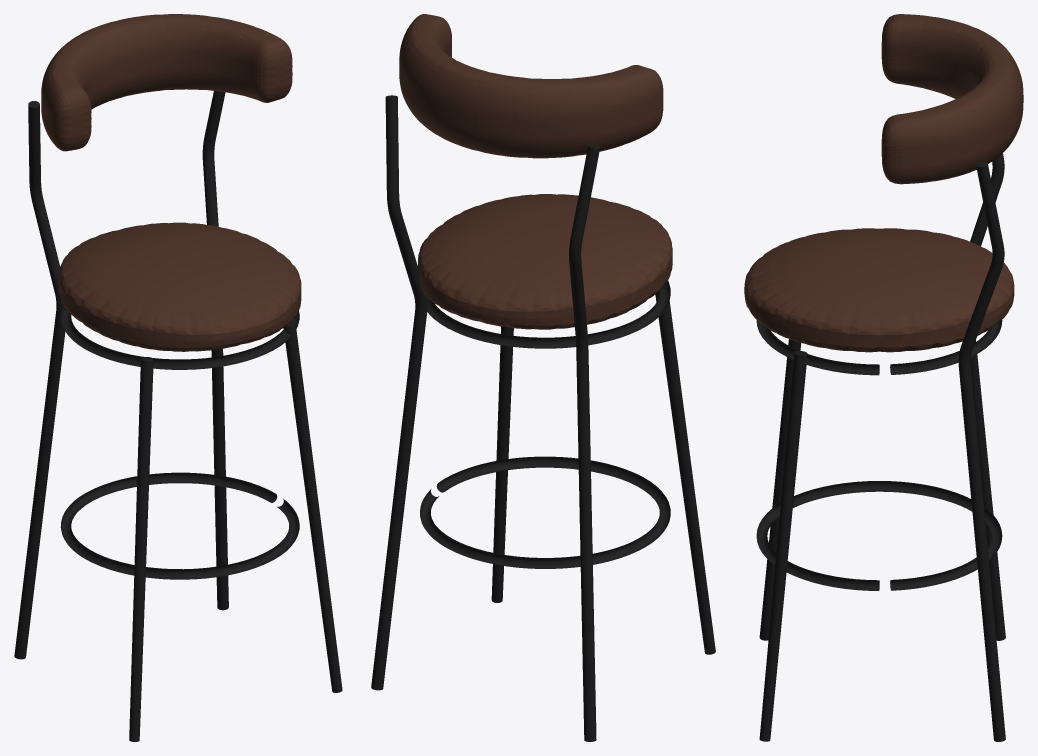
The model's file is pier.glb.
3 views of the same model, side by side, from view 1: azimuth 30°, elevation 25°; view 2: azimuth 150°, elevation 25°; view 3: azimuth 270°, elevation 25° (orthographic). The views are drawn at different scales.
Parts seen in each view (by area): view 1: seat, back, rleg0, footring, fleg0, rleg1, fleg1, top_ring; view 2: seat, back, rleg0, rleg1, footring, fleg0, fleg1, top_ring; view 3: seat, back, rleg1, footring, fleg1, rleg0, top_ring, fleg0.
Part boxes in pixels (x1,y1,x2,y2): seat: [59, 222, 301, 351]; back: [41, 14, 292, 151]; rleg0: [14, 101, 67, 659]; footring: [60, 472, 299, 579]; fleg0: [129, 357, 153, 741]; rleg1: [202, 91, 228, 610]; fleg1: [283, 321, 342, 692]; top_ring: [60, 306, 299, 369]; seat: [418, 194, 672, 329]; back: [399, 14, 663, 158]; rleg0: [569, 144, 600, 741]; rleg1: [371, 95, 427, 690]; footring: [420, 456, 670, 568]; fleg0: [655, 282, 715, 654]; fleg1: [491, 326, 513, 602]; top_ring: [426, 281, 670, 348]; seat: [744, 228, 1014, 352]; back: [881, 14, 1023, 184]; rleg1: [958, 160, 1005, 741]; footring: [756, 481, 1002, 590]; fleg1: [759, 351, 807, 741]; rleg0: [970, 153, 1005, 640]; top_ring: [756, 320, 1002, 375]; fleg0: [759, 339, 801, 640].
Size of the model in its own units: 0.4665 by 1.15 by 0.4632.
